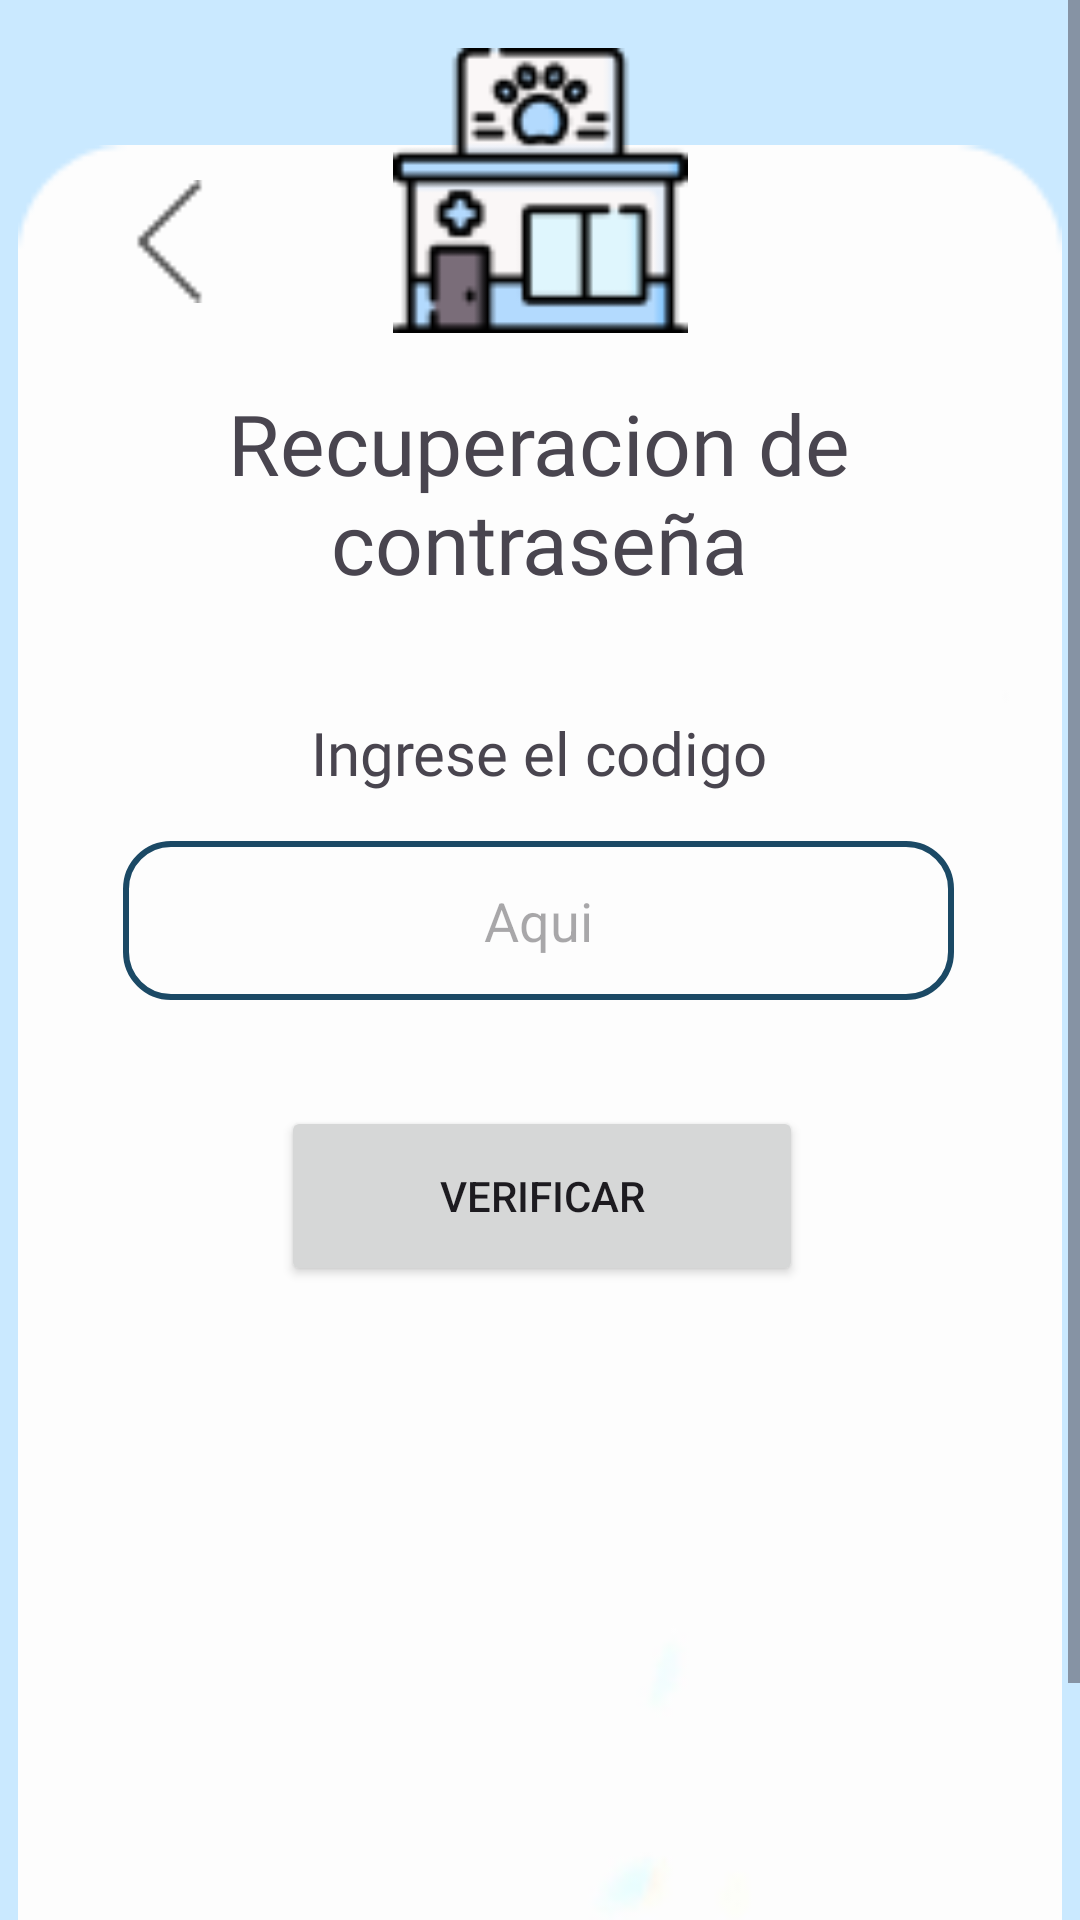

Icon click points for this 1080px×1920px phone screenshot, format point (x, y):
clinic: point (540, 190)
flecha: point (169, 241)
